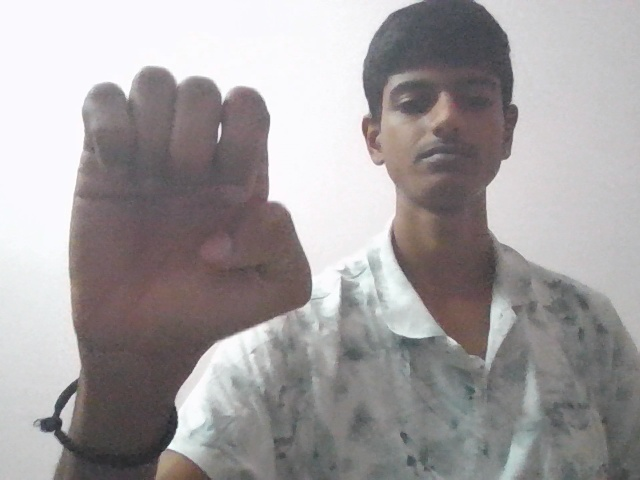yes: (57, 56, 324, 458)
